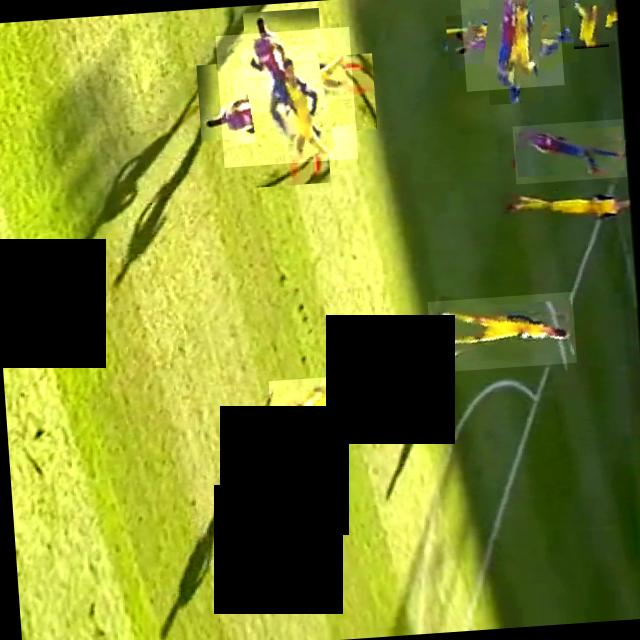soccer-player: (215, 26, 358, 166), (426, 290, 576, 372), (268, 369, 425, 438), (459, 0, 564, 90), (512, 117, 627, 183), (562, 0, 616, 43)
